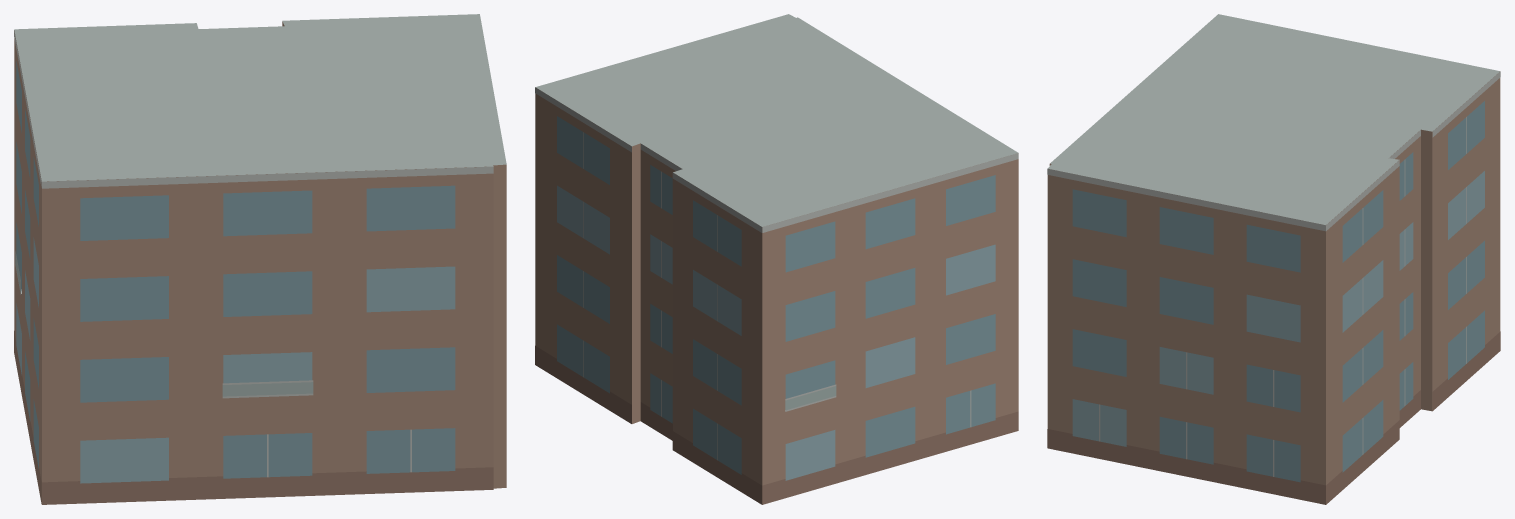
Rendered from survey-upis-32811364.glb.
3 views of the same model, side by side, from view 1: azimuth 30°, elevation 25°; view 2: azimuth 150°, elevation 25°; view 3: azimuth 270°, elevation 25° (orthographic). The views are drawn at different scales.
Parts seen in each view (by area): view 1: survey-upis-32811364.tmp; view 2: survey-upis-32811364.tmp; view 3: survey-upis-32811364.tmp.
Boxes of the visible parts, x1,y1,x2,y2 form: survey-upis-32811364.tmp: (14, 14, 506, 504); survey-upis-32811364.tmp: (535, 14, 1018, 504); survey-upis-32811364.tmp: (1047, 14, 1500, 504).
Size of the model in its own units: 17.99 by 11.1 by 16.3.
